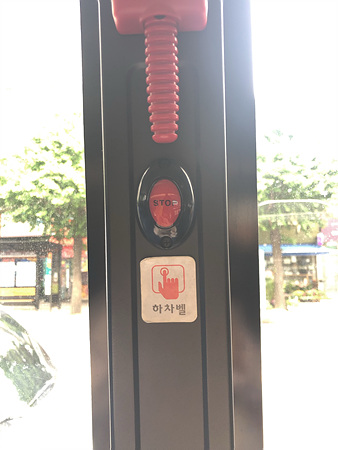bell: (137, 159, 195, 250)
